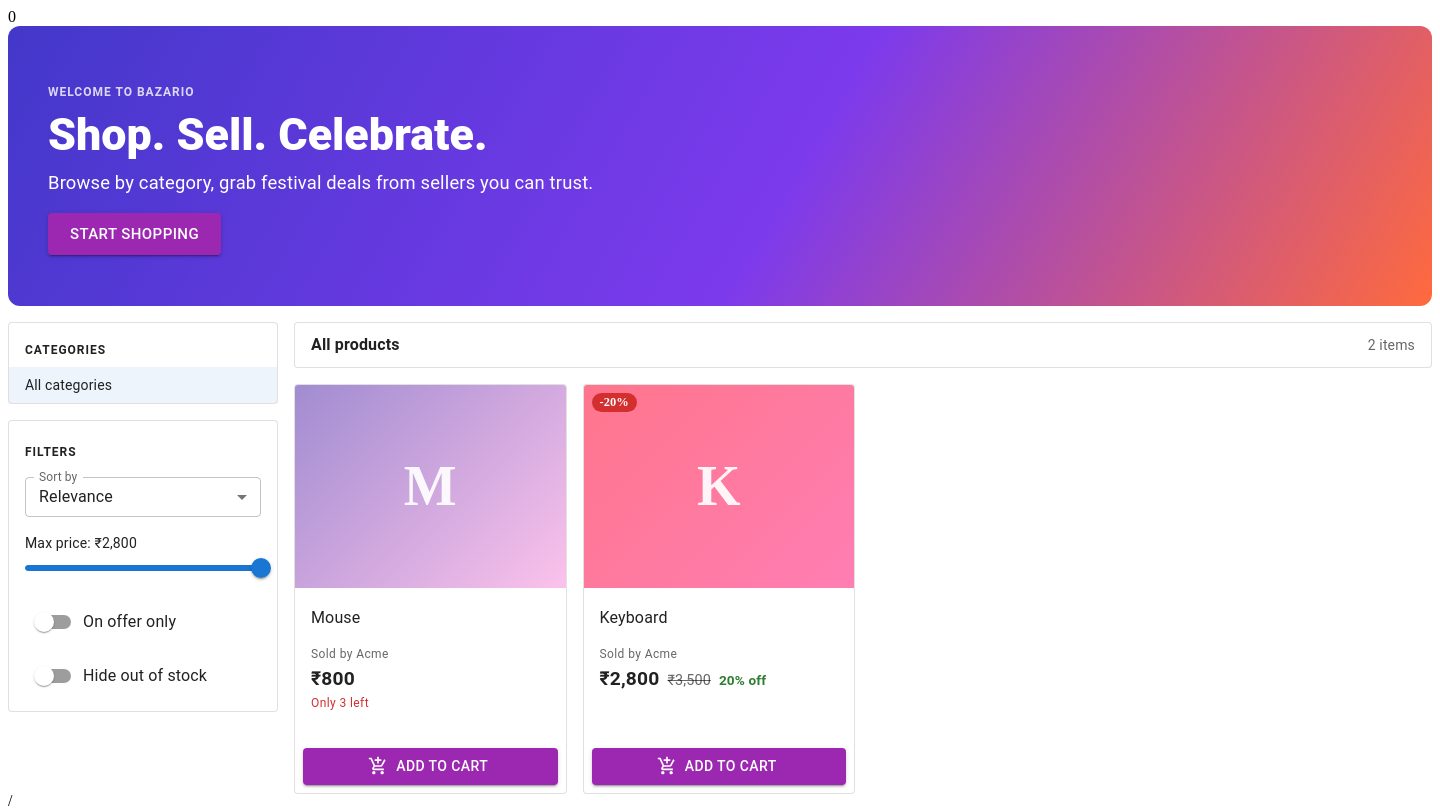
Test: ProductList › limits the price with the slider
Check: the heading "Keyboard" is shown, box [600,608,668,627]
Set the slider labelled "Max price: ₹2,800" to "1000": (261, 568) [251,558,271,578]
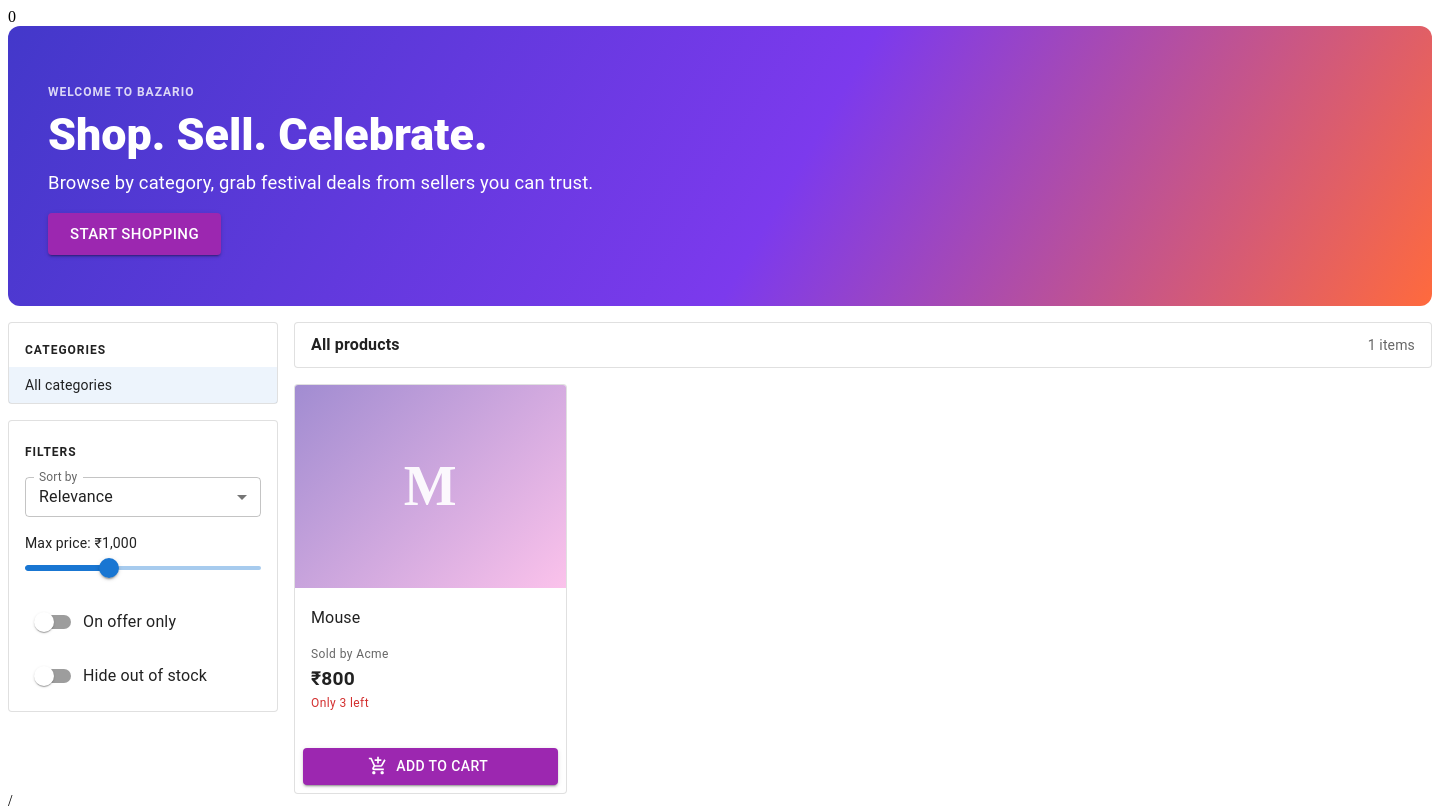
Check: the heading "Mouse" is shown, box [311,608,360,627]
Check: the link "Keyboard" is gone
